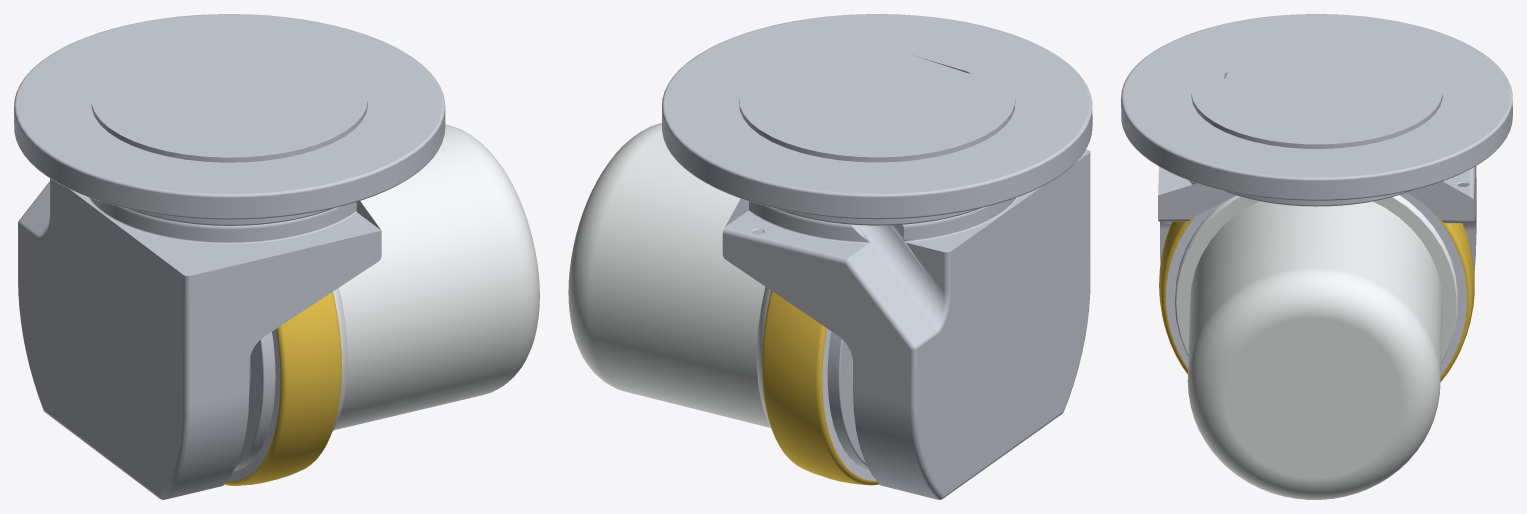
Rendered from LeftLeg_LXC_Light_BackWheels.fbx.
3 views of the same model, side by side, from view 1: azimuth 30°, elevation 25°; view 2: azimuth 150°, elevation 25°; view 3: azimuth 270°, elevation 25° (orthographic). The views are drawn at different scales.
Visible parts, largest first — view 1: LeftLegBackWheel; view 2: LeftLegBackWheel; view 3: LeftLegBackWheel.
Part boxes in pixels (x1,y1,x2,y2): LeftLegBackWheel: [14, 14, 539, 499]; LeftLegBackWheel: [568, 14, 1092, 499]; LeftLegBackWheel: [1121, 14, 1512, 499].
Size of the model in its own units: 18.39 by 14.69 by 15.5.
